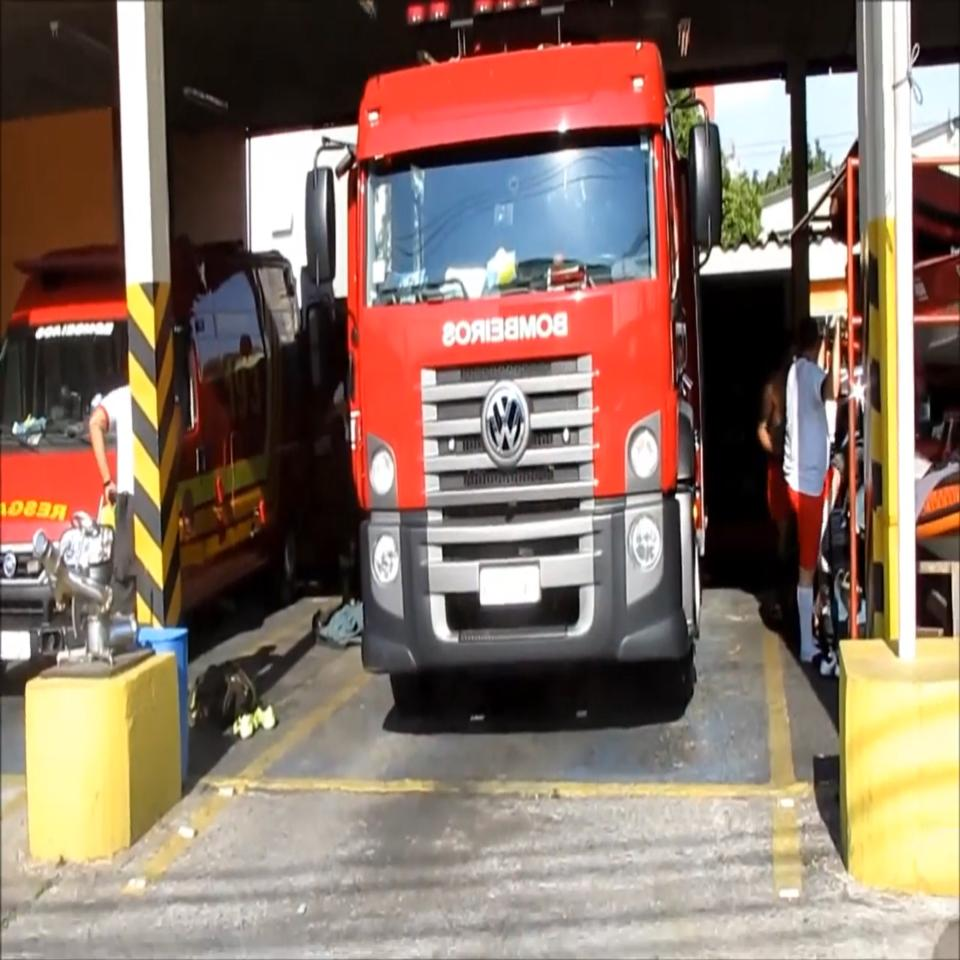viatura: (304, 0, 723, 724)
